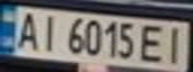0: (81, 17, 103, 57)
1: (100, 18, 121, 58)
5: (115, 19, 139, 61)
6: (63, 15, 87, 55)
A: (12, 9, 42, 52)
E: (136, 21, 169, 64)
I: (160, 24, 190, 65), (36, 11, 63, 52)
